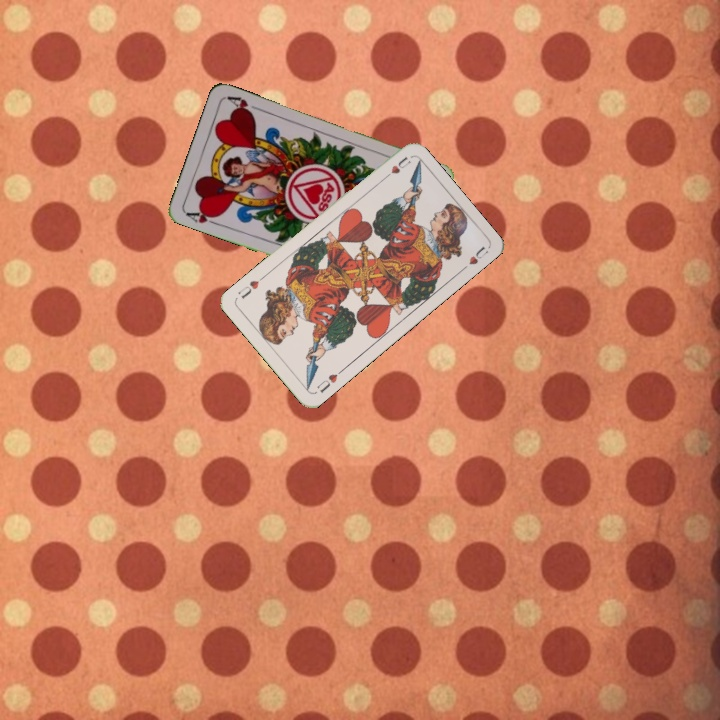HA: (182, 205, 222, 228)
HU: (378, 152, 414, 182), (312, 370, 340, 396)
